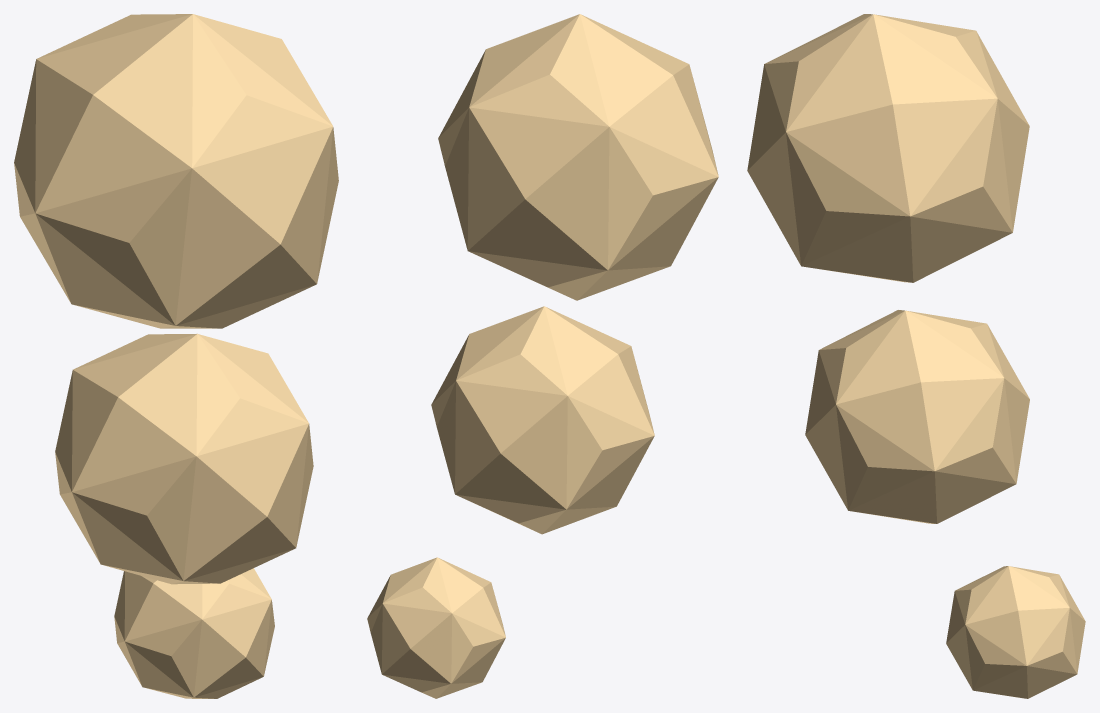
The model's file is CharSkyKid_Horn_AP29OrbEarring.glb.
The picture shows the model from 3 angles, left to right: view 1: azimuth 30°, elevation 25°; view 2: azimuth 150°, elevation 25°; view 3: azimuth 270°, elevation 25°; orthographic projection. The views are drawn at different scales.
Parts seen in each view (by area): view 1: CharSkyKid_Horn_AP29OrbEarring; view 2: CharSkyKid_Horn_AP29OrbEarring; view 3: CharSkyKid_Horn_AP29OrbEarring.
Part boxes in pixels (x1=…): CharSkyKid_Horn_AP29OrbEarring: x1=14, y1=14, x2=338, y2=698; CharSkyKid_Horn_AP29OrbEarring: x1=367, y1=14, x2=718, y2=698; CharSkyKid_Horn_AP29OrbEarring: x1=747, y1=14, x2=1085, y2=698.
Size of the model in its own units: 0.4383 by 0.9957 by 0.4696.
1 material, 1 textured.
